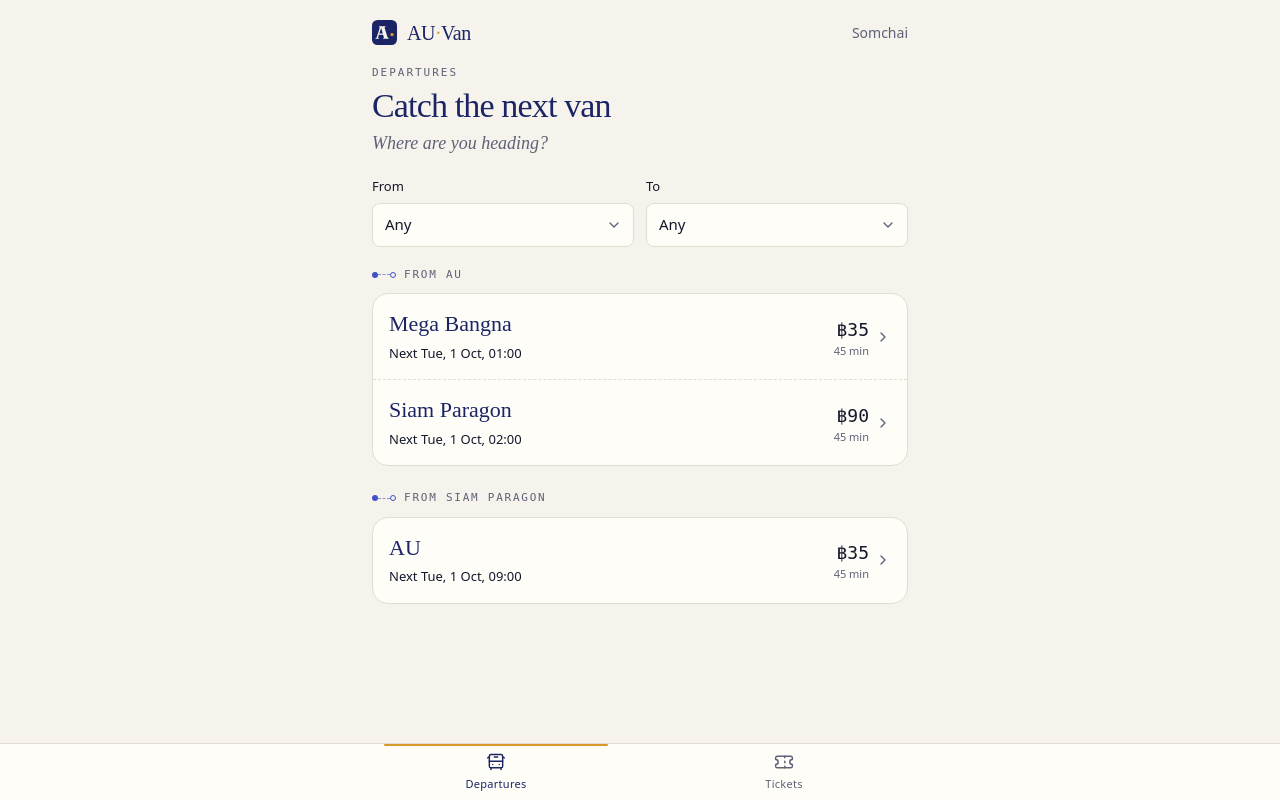
Test: Student picks a route first › offers only destinations reachable from the chosen origin
Expected: the element named "Routes" is shown, [372,267,908,604]
What coordinates should you click on to do the following:
click the button named "From Any"
I would click on:
 (398, 224)
Its box is [372,203,634,247].
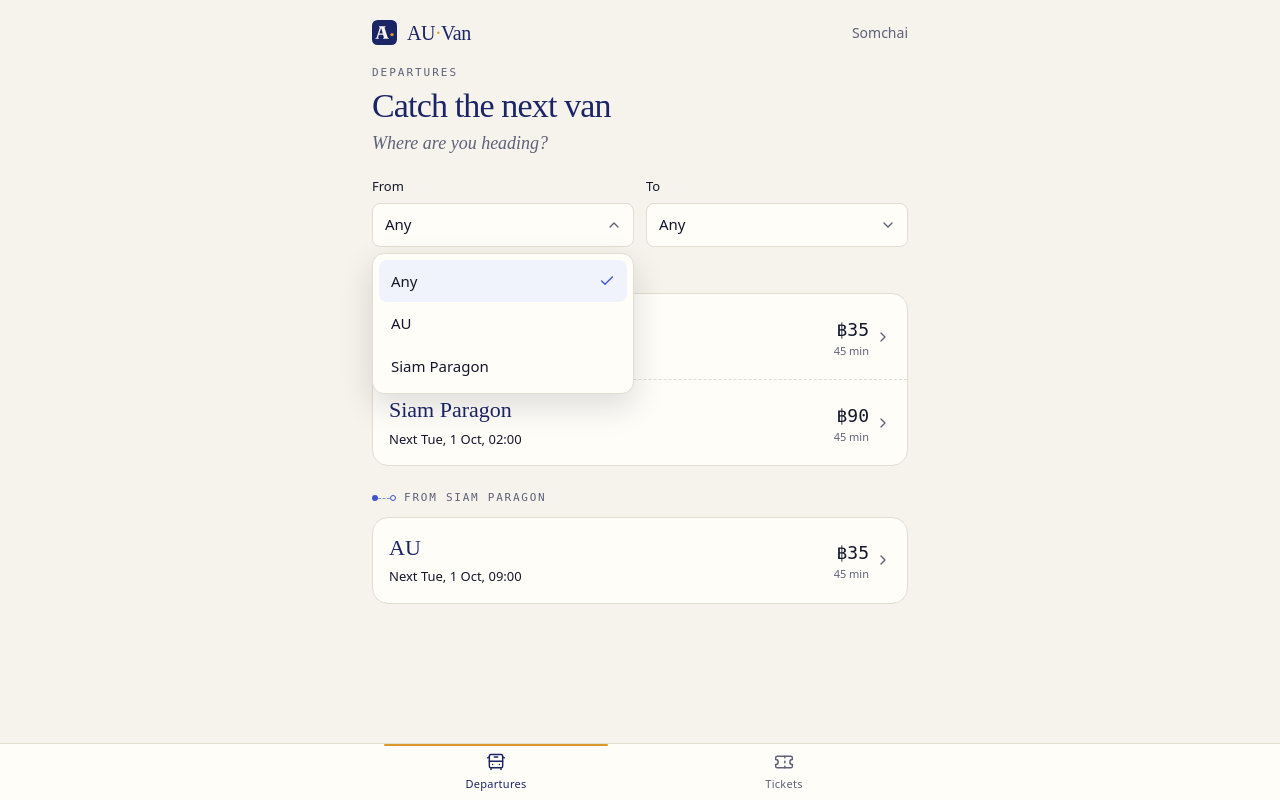
What coordinates should you click on to do the following:
click the option "Siam Paragon"
I would click on:
 (440, 366)
Its box is [391,356,489,376].
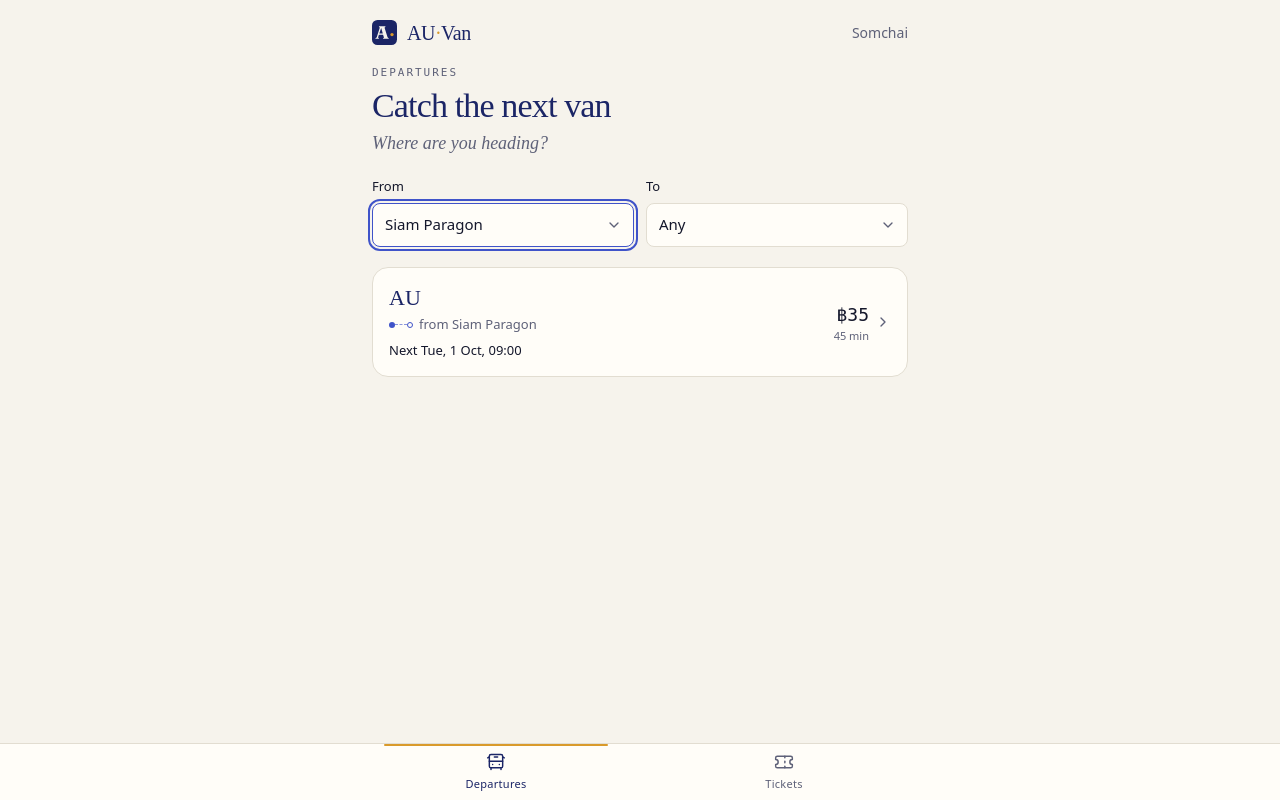
What coordinates should you click on to do the following:
click the button named "To Any"
I would click on:
 (672, 224)
Its box is [646,203,908,247].
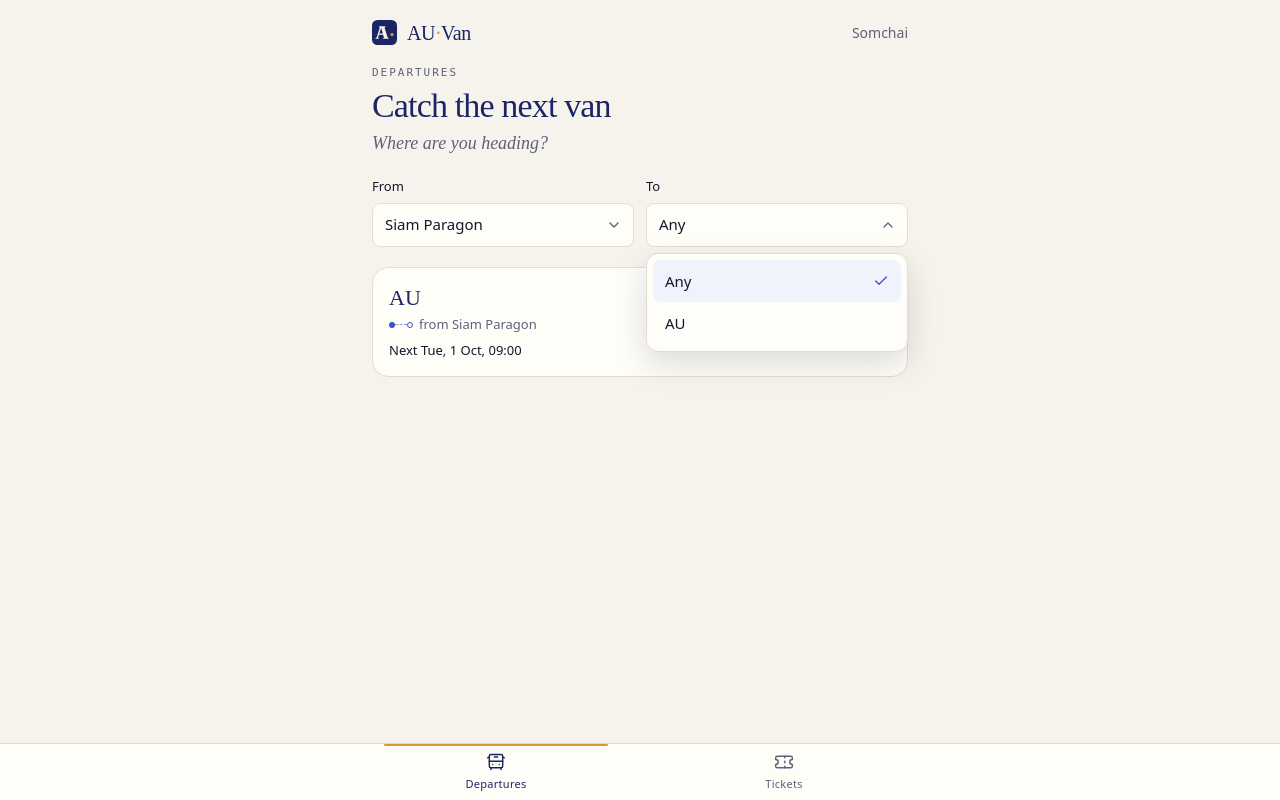
Expected: the options read "Any", "AU", in this order, [653,260,901,302]; [665,313,686,333]
